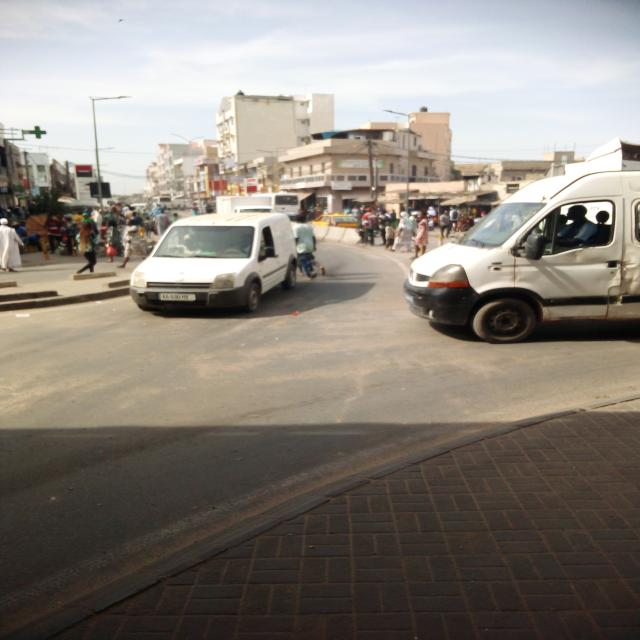bus tata: (261, 194, 301, 219), (153, 197, 173, 210)
fourgon: (404, 140, 640, 344), (218, 197, 274, 215)
particulier: (131, 214, 298, 312)
taxi: (313, 215, 359, 230)
